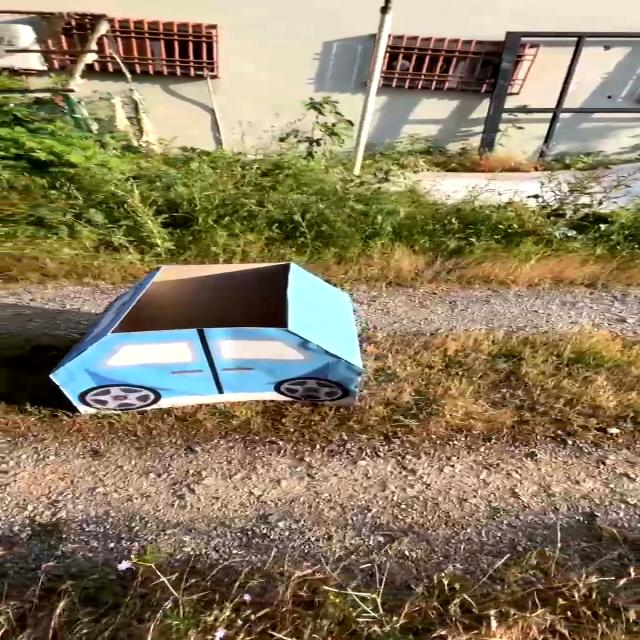blue_car: (0, 232, 411, 440)
